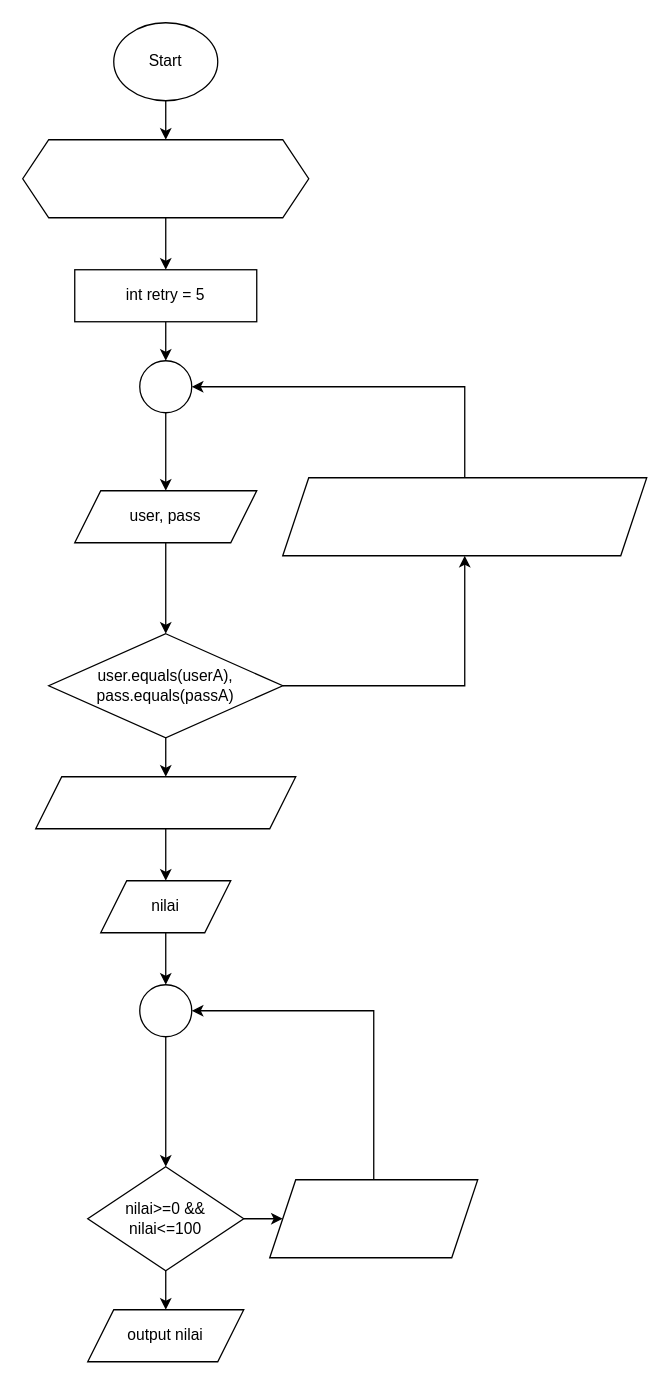
Image size: 670x1385. Some labels were removed from this diagram. The shapes that lost their labels are listed below. From the top down, each one's centre as x and y in pixels, then its label:
the point at 165,178: String user, userA=admin, pass, passA=admin int nilai
the point at 464,516: print"Username atau Password yang anda masukkan salah"
the point at 165,802: print"Silahkan masukkan nilai"
the point at 373,1218: print"nilai yang anda masukkan tidak valid"
